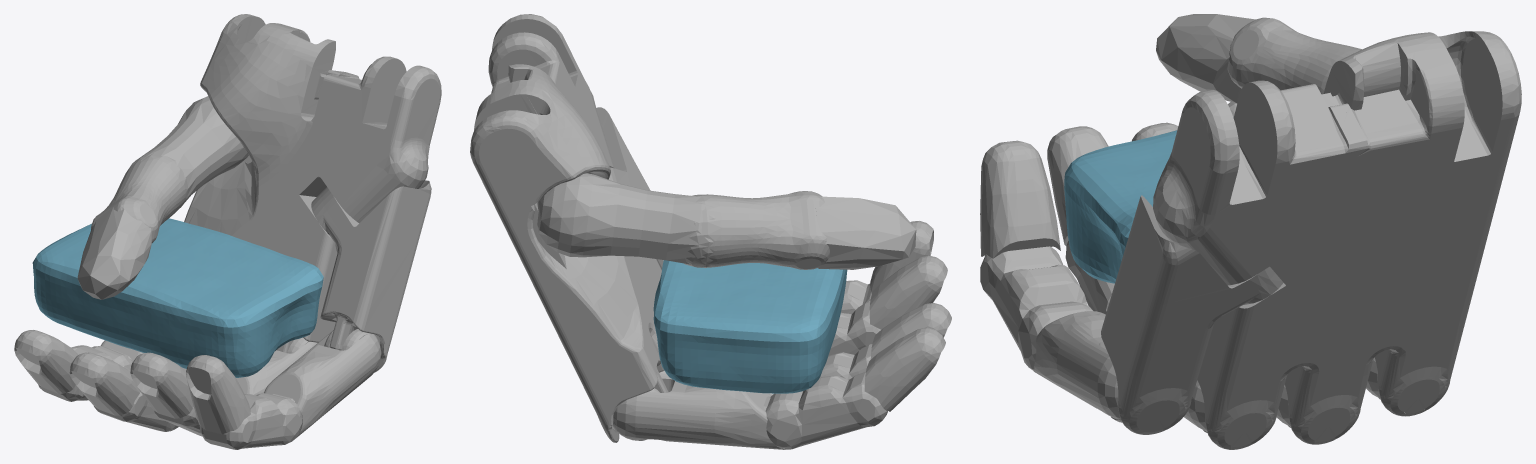
Rendered from ugg_0.glb.
3 renders of one model, left to right at view 1: azimuth 30°, elevation 25°; view 2: azimuth 150°, elevation 25°; view 3: azimuth 270°, elevation 25°, orthographic. The views are drawn at different scales.
Visible parts, largest first — view 1: world; view 2: world; view 3: world.
Boxes of the visible parts, x1,y1,x2,y2 form: world: (14, 14, 441, 449); world: (470, 14, 951, 449); world: (980, 14, 1521, 449).
Bounding box in the file's own units: 1.05 × 0.7528 × 0.8262.
